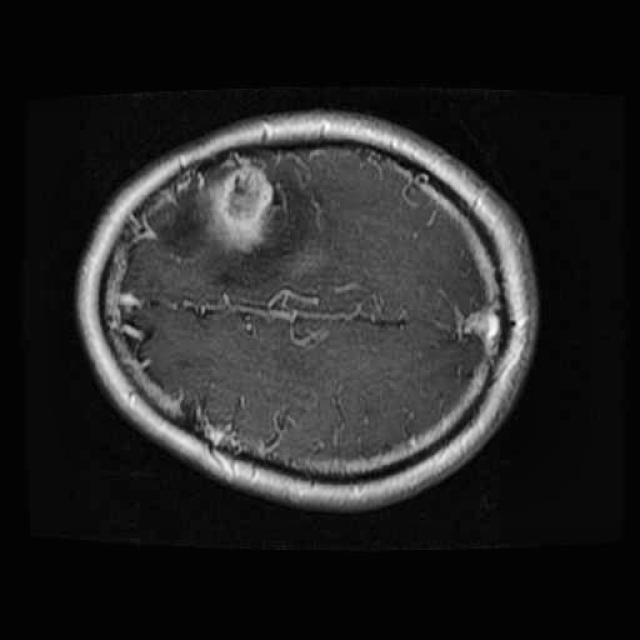Non-Tumor: (194, 155, 288, 262)
